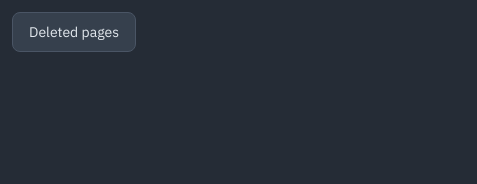
Test case: DeletedPages list (BOS-2197) › shows the error when Restore fails and does not open the page
Click the button "Deleted pages" at [74, 32], box [12,12,136,52]
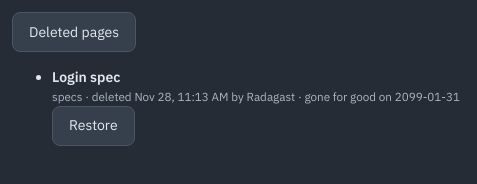
Click the button with aria-label "Restore Login spec" at [93, 126], box [52,106,135,146]
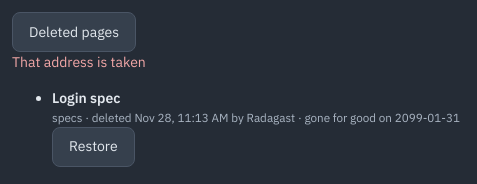
Expected: the message shows "taken", [12,53,146,71]
